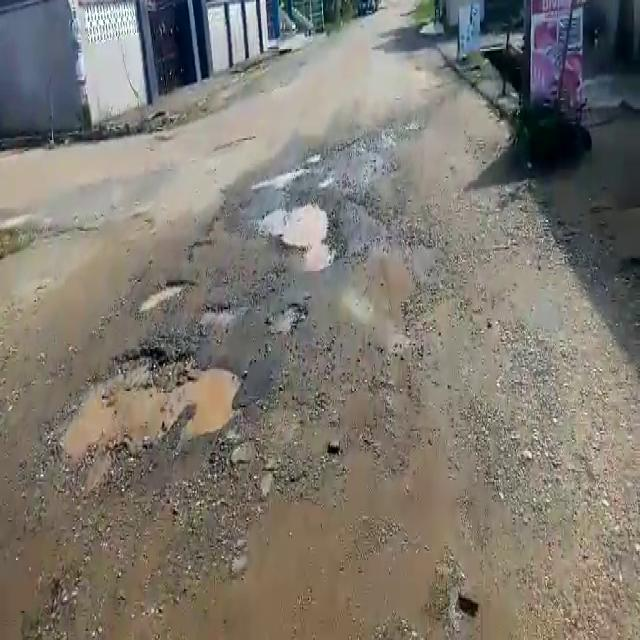Pothole: (42, 339, 248, 462), (246, 195, 343, 262), (139, 275, 194, 317), (198, 300, 240, 328)
